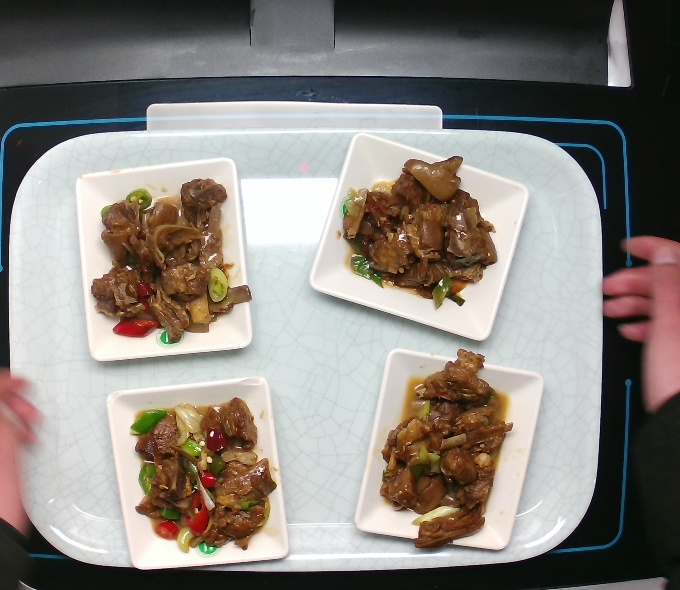wcq-YangRou: (87, 173, 259, 346), (326, 140, 498, 313), (375, 343, 516, 554), (122, 384, 288, 557)
